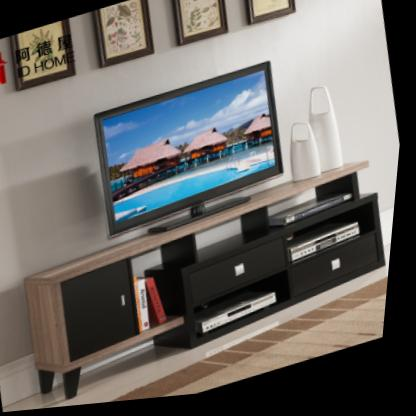Carpet: (114, 285, 394, 405)
TV stand: (28, 168, 392, 402)
